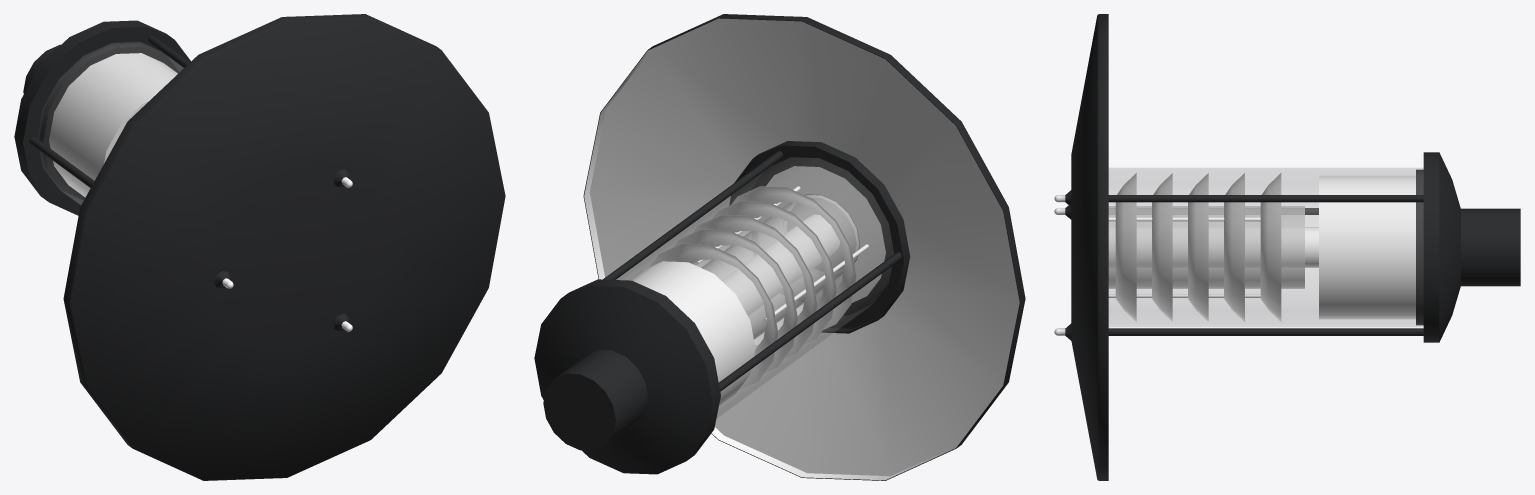
Rendered from Richard_IV.obj.
The picture shows the model from 3 angles, left to right: view 1: azimuth 30°, elevation 25°; view 2: azimuth 150°, elevation 25°; view 3: azimuth 270°, elevation 25°; orthographic projection. The views are drawn at different scales.
Parts seen in each view (by area): view 1: BezierCurve.001, Glas, BezierCurve.003; view 2: BezierCurve.001, Glas, BezierCurve.003; view 3: BezierCurve.001, Glas, BezierCurve.003.
Part boxes in pixels (<box>): BezierCurve.001: <box>14,14,505,480</box>; Glas: <box>38,42,183,204</box>; BezierCurve.003: <box>29,36,352,331</box>; BezierCurve.001: <box>534,14,1025,480</box>; Glas: <box>616,158,893,418</box>; BezierCurve.003: <box>603,151,901,391</box>; BezierCurve.001: <box>1071,14,1520,480</box>; Glas: <box>1109,168,1423,326</box>; BezierCurve.003: <box>1054,190,1423,340</box>.
Size of the model in its own units: 0.599 by 0.599 by 0.5975.
6 materials, 4 textured.
